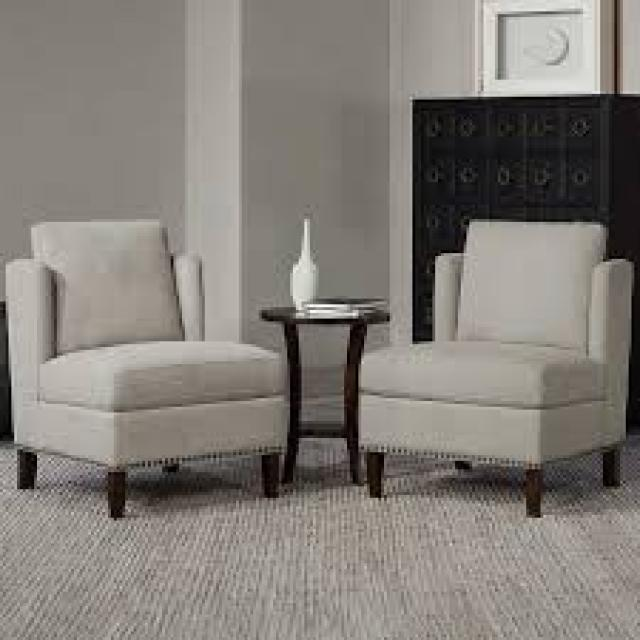chair: (310, 160, 640, 613), (0, 129, 296, 585)
